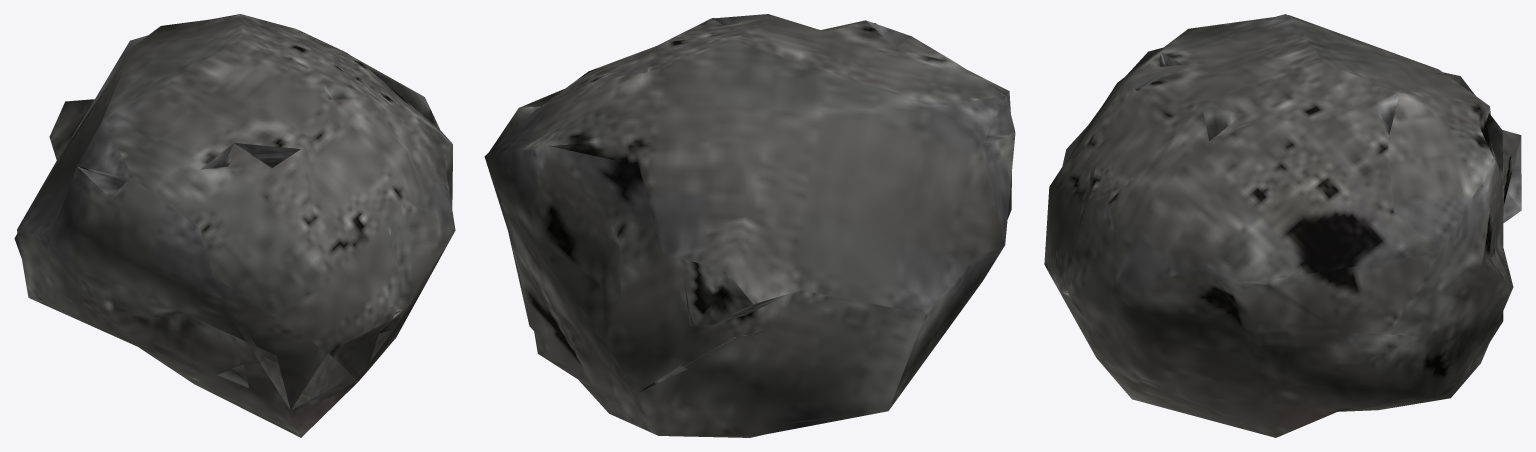
The model's file is rock_1418141231_lod1.glb.
3 views of the same model, side by side, from view 1: azimuth 30°, elevation 25°; view 2: azimuth 150°, elevation 25°; view 3: azimuth 270°, elevation 25° (orthographic). The views are drawn at different scales.
Bounding box in the file's own units: 2.43 × 1.91 × 2.35.
1 material, 1 textured.
